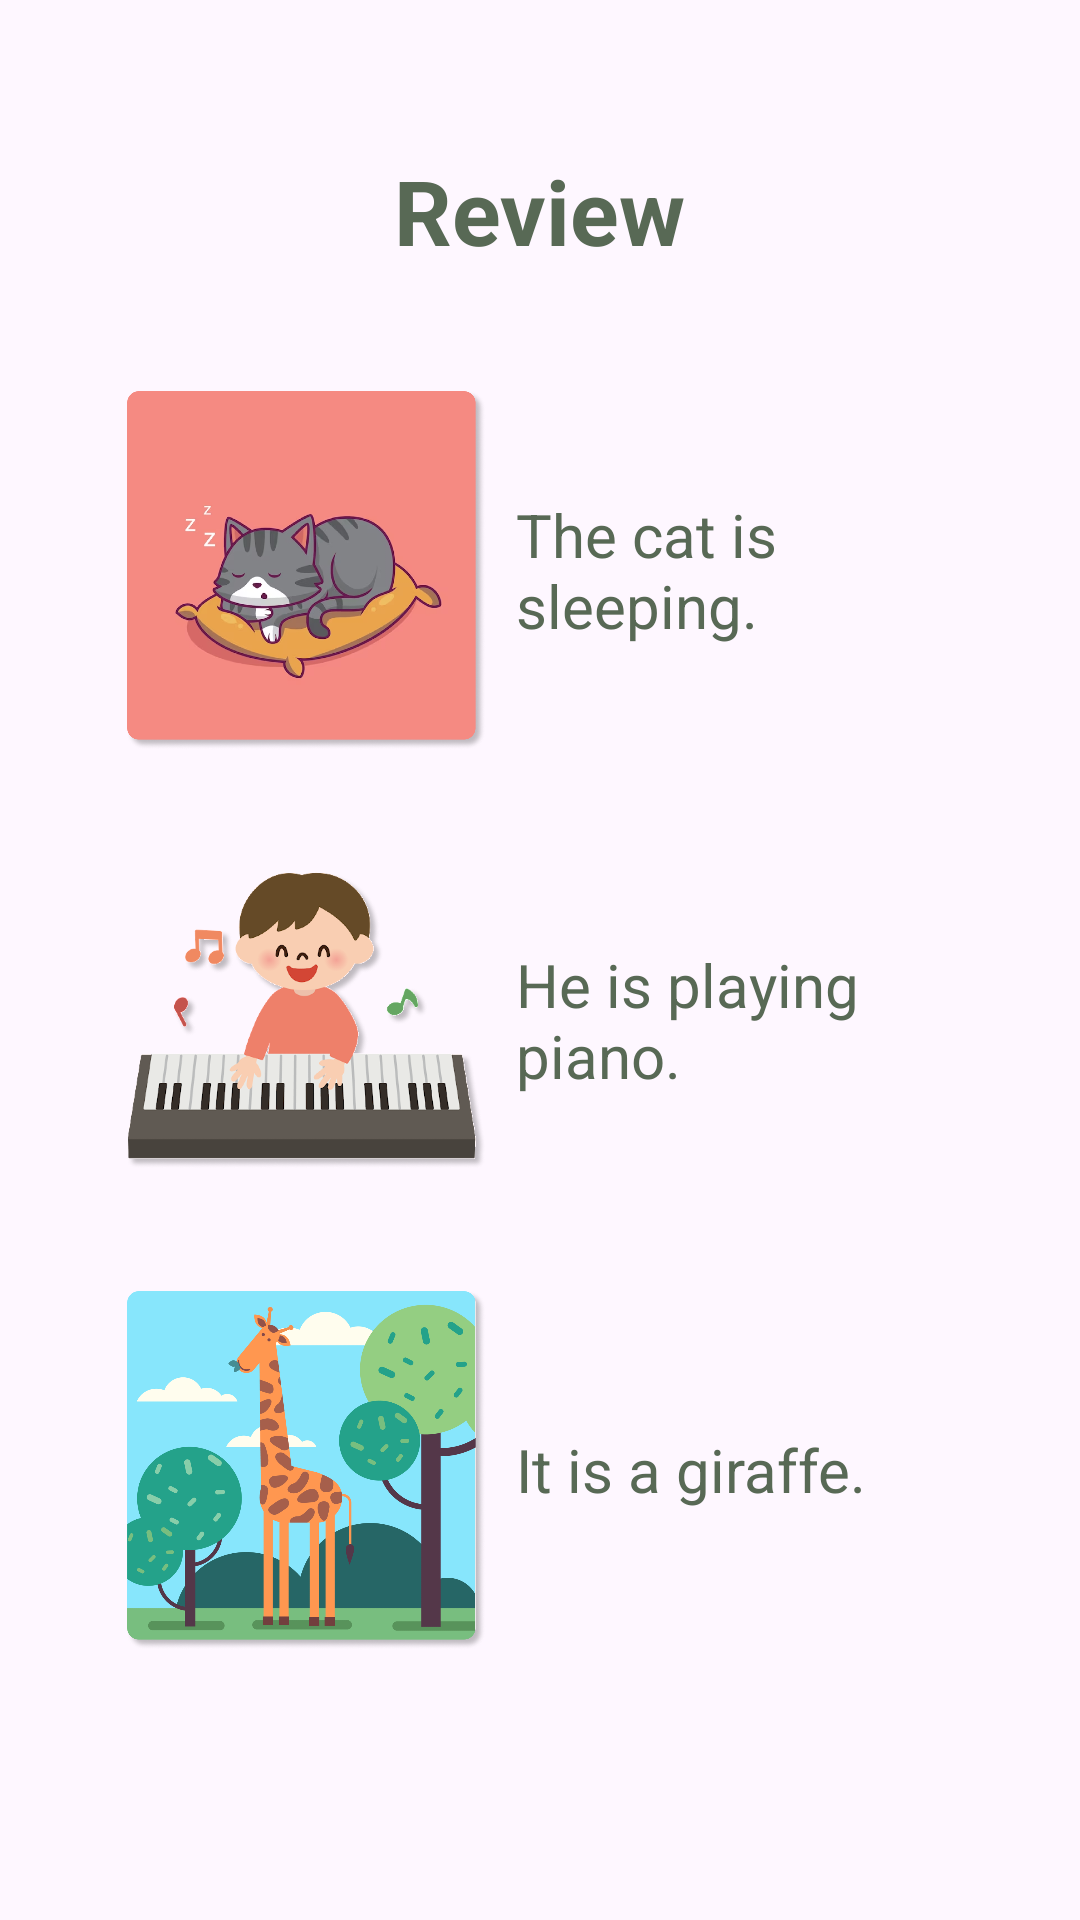

Where icons sit on this 1080px x 1920px app screen, as (x1, y1, x2, y2):
sentence giraffe: (127, 1291, 481, 1645)
sentence piano: (128, 873, 481, 1164)
sentence sleeping cat: (127, 391, 481, 745)
